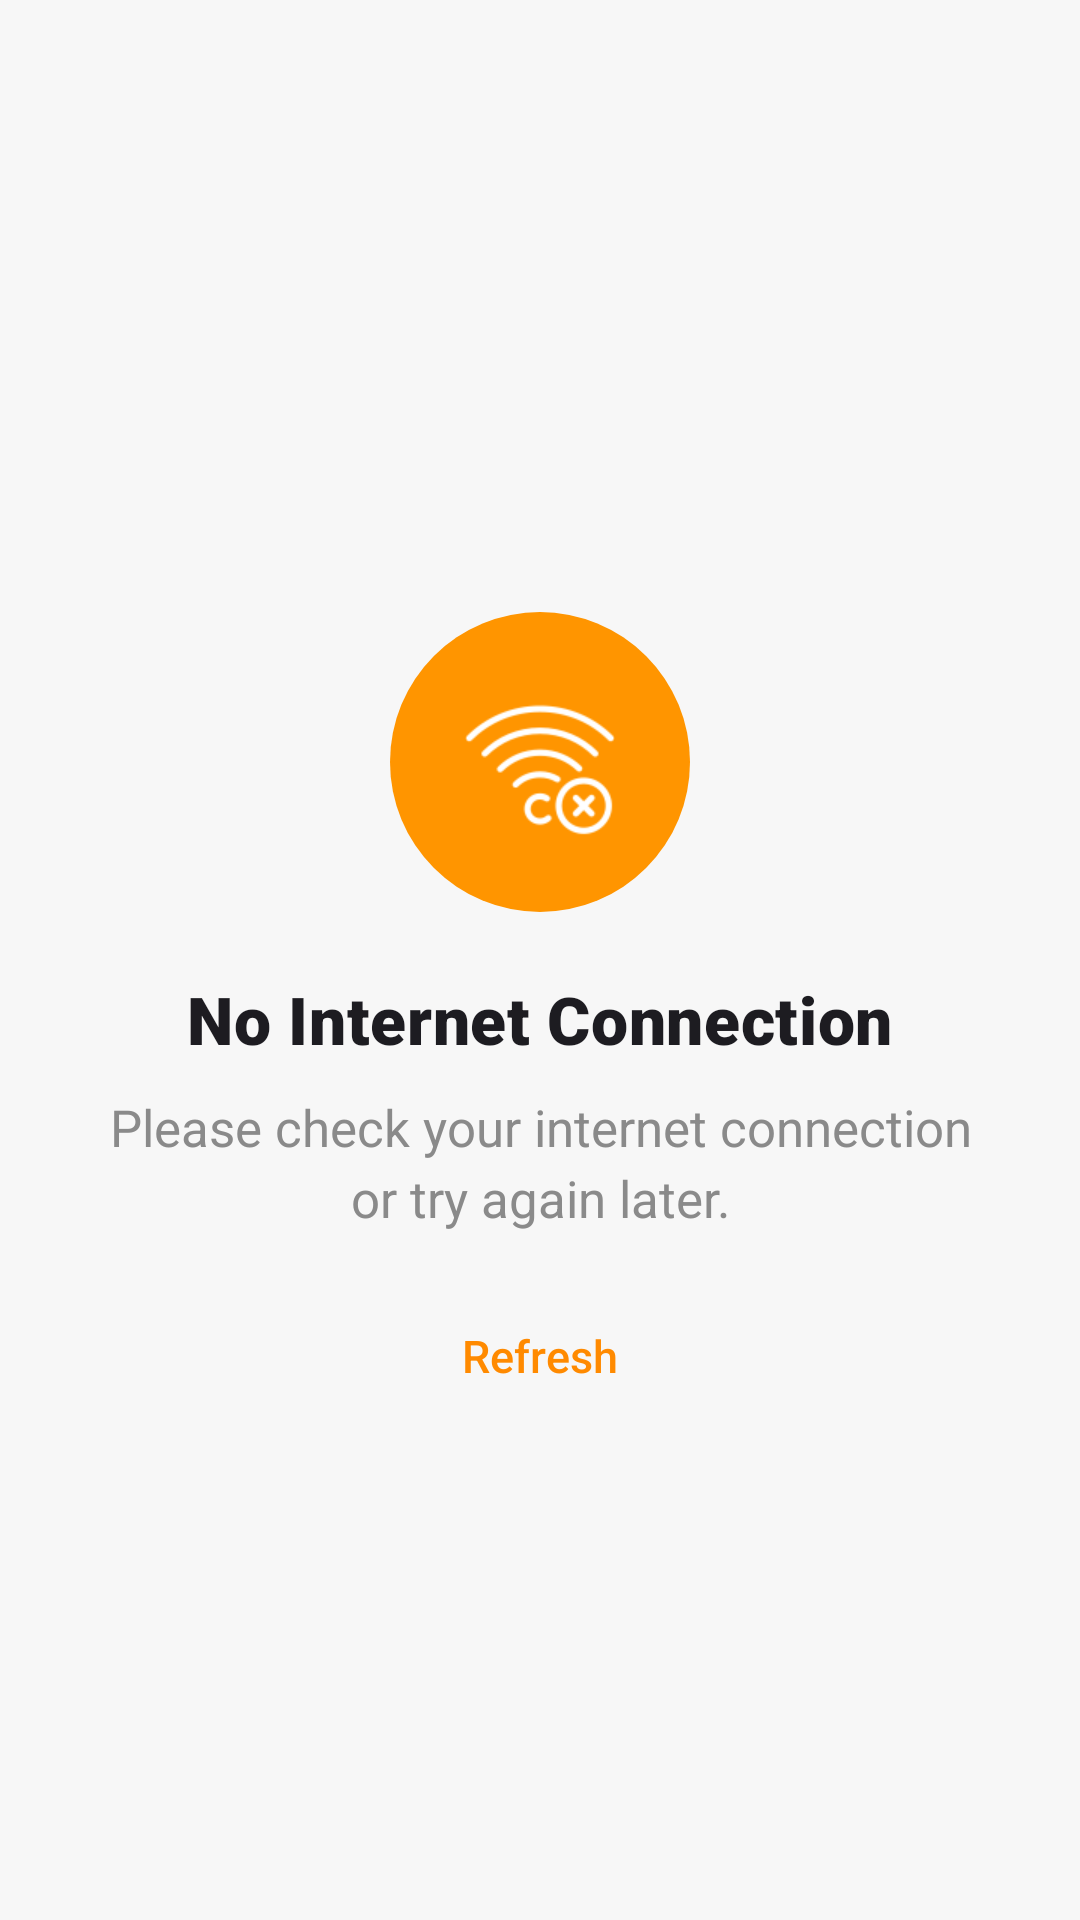

Point at icon controls on the screen. Image size 1080×1920, points as (x,y).
wifi error: (540,770)
